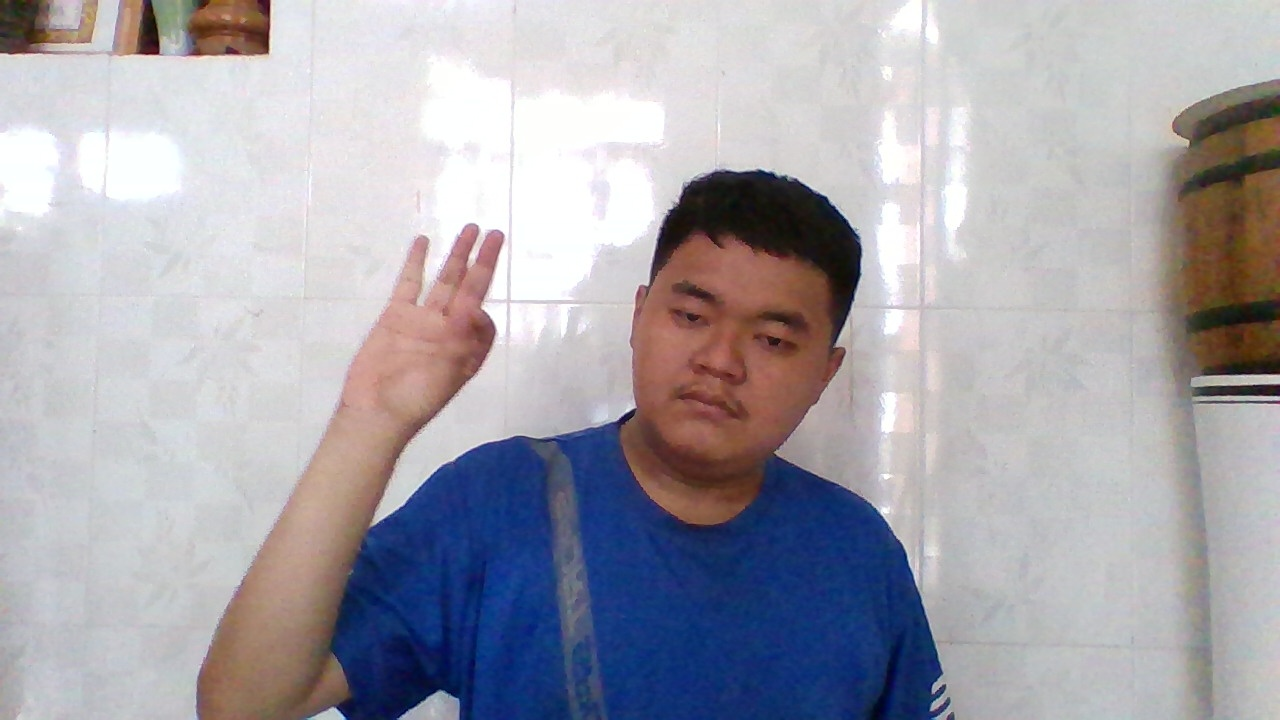T: (355, 216, 514, 426)
